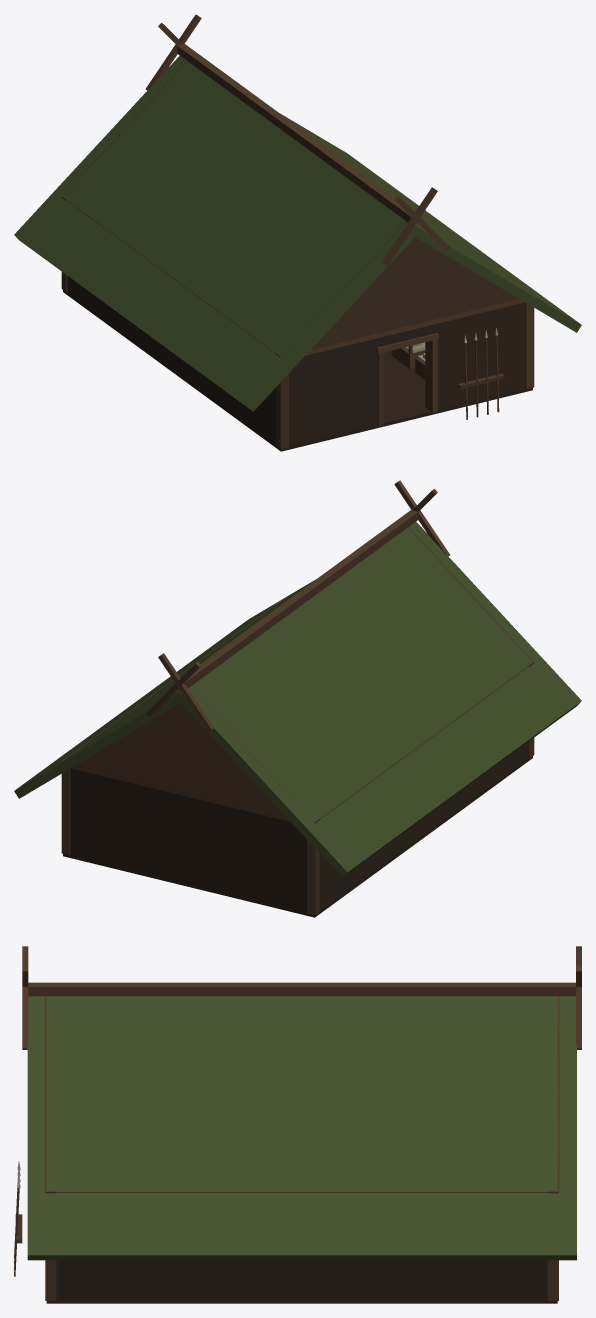
The model's file is walk_rime_barracks.glb.
3 views of the same model, one above another, from view 1: azimuth 30°, elevation 25°; view 2: azimuth 150°, elevation 25°; view 3: azimuth 270°, elevation 25° (orthographic). The views are drawn at different scales.
Parts seen in each view (by area): view 1: walk_rime_barracks_roof, walk_rime_barracks; view 2: walk_rime_barracks_roof, walk_rime_barracks; view 3: walk_rime_barracks_roof, walk_rime_barracks.
Part boxes in pixels (x1,y1,x2,y2): walk_rime_barracks_roof: (14,14,581,411); walk_rime_barracks: (61,134,534,451); walk_rime_barracks_roof: (14,480,581,877); walk_rime_barracks: (61,600,534,917); walk_rime_barracks_roof: (22,946,581,1260); walk_rime_barracks: (14,1161,558,1303).
Size of what is drawn, in the model's own units: 10.6 by 7.15 by 13.34.
2 materials, 2 textured.
